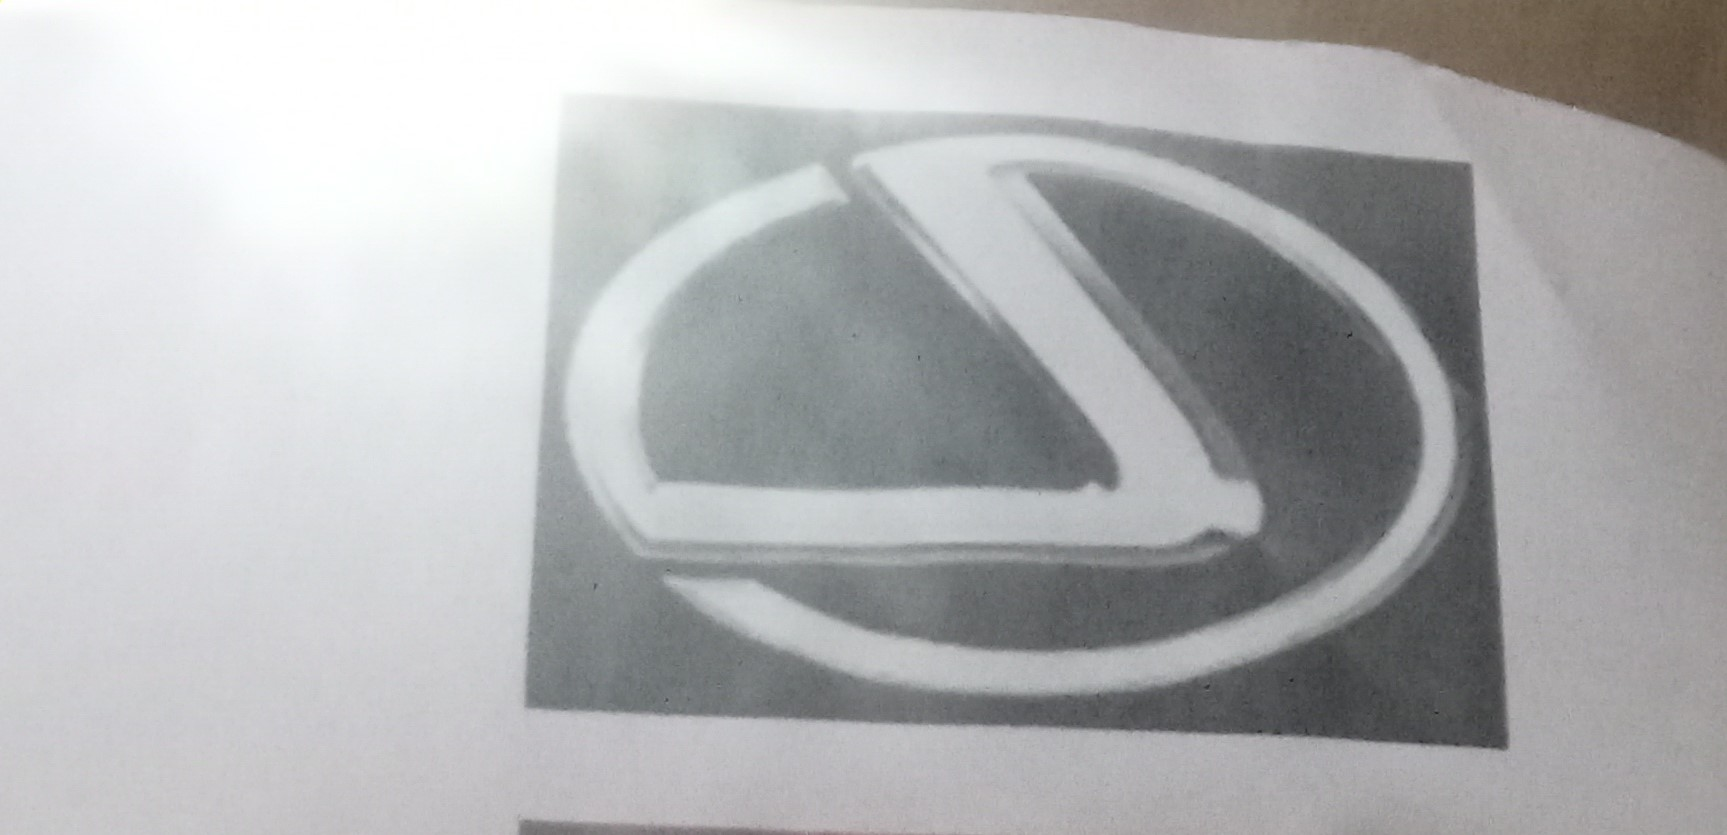Lexus: (547, 117, 1486, 715)
